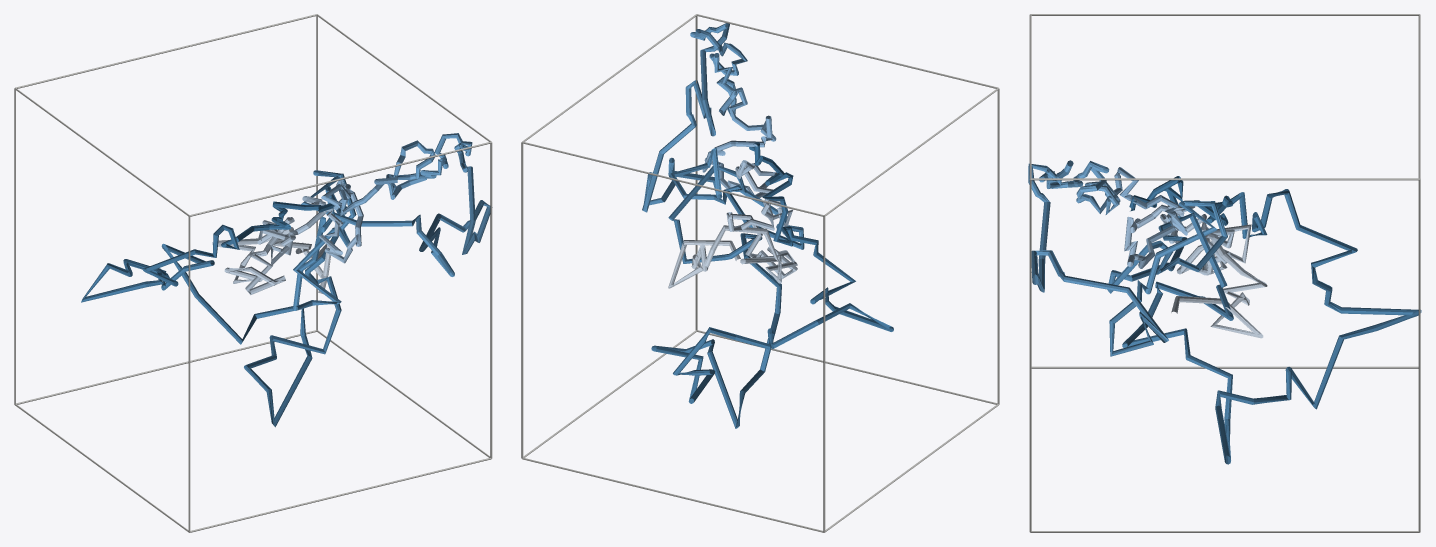
3 renders of one model, left to right at view 1: azimuth 30°, elevation 25°; view 2: azimuth 150°, elevation 25°; view 3: azimuth 270°, elevation 25°, orthographic. The views are drawn at different scales.
Visible parts, largest first — view 1: geometry_0, geometry_1; view 2: geometry_0, geometry_1; view 3: geometry_0, geometry_1.
Boxes of the visible parts, x1=… form: geometry_0: x1=81, y1=133, x2=492, y2=427; geometry_1: x1=14, y1=14, x2=492, y2=532; geometry_0: x1=642, y1=23, x2=893, y2=428; geometry_1: x1=521, y1=14, x2=999, y2=532; geometry_0: x1=1028, y1=160, x2=1421, y2=464; geometry_1: x1=1029, y1=14, x2=1420, y2=532.
Bounding box in the file's own units: 0.3039 × 0.3042 × 0.3033.
